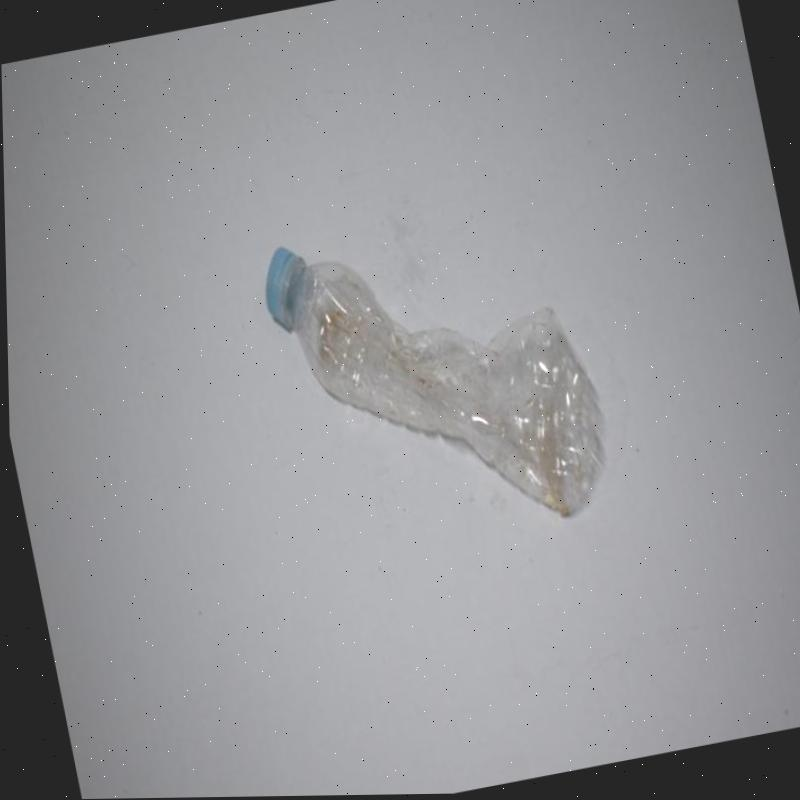botella: (253, 192, 621, 567)
